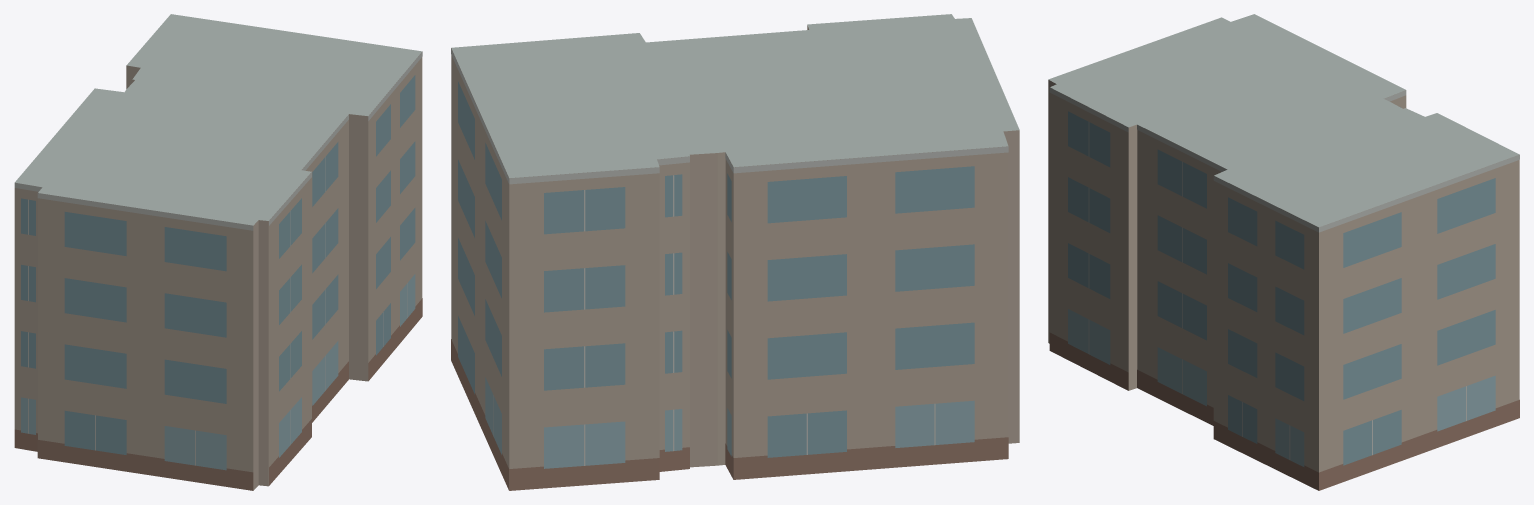
The model's file is survey-upis-32938697.glb.
3 views of the same model, side by side, from view 1: azimuth 30°, elevation 25°; view 2: azimuth 150°, elevation 25°; view 3: azimuth 270°, elevation 25° (orthographic). The views are drawn at different scales.
Visible parts, largest first — view 1: survey-upis-32938697.tmp; view 2: survey-upis-32938697.tmp; view 3: survey-upis-32938697.tmp.
Part boxes in pixels (bbox=[...]): survey-upis-32938697.tmp: bbox=[14, 14, 422, 490]; survey-upis-32938697.tmp: bbox=[451, 14, 1019, 490]; survey-upis-32938697.tmp: bbox=[1048, 14, 1519, 490].
Size of the model in its own units: 21.46 by 12.35 by 20.04.
